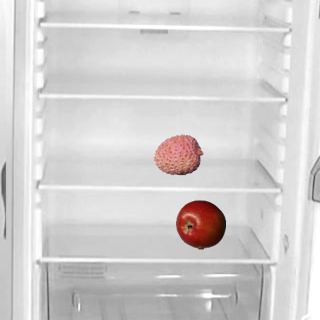Apple Braeburn: (175, 199, 225, 249)
Lychee: (153, 129, 203, 179)
